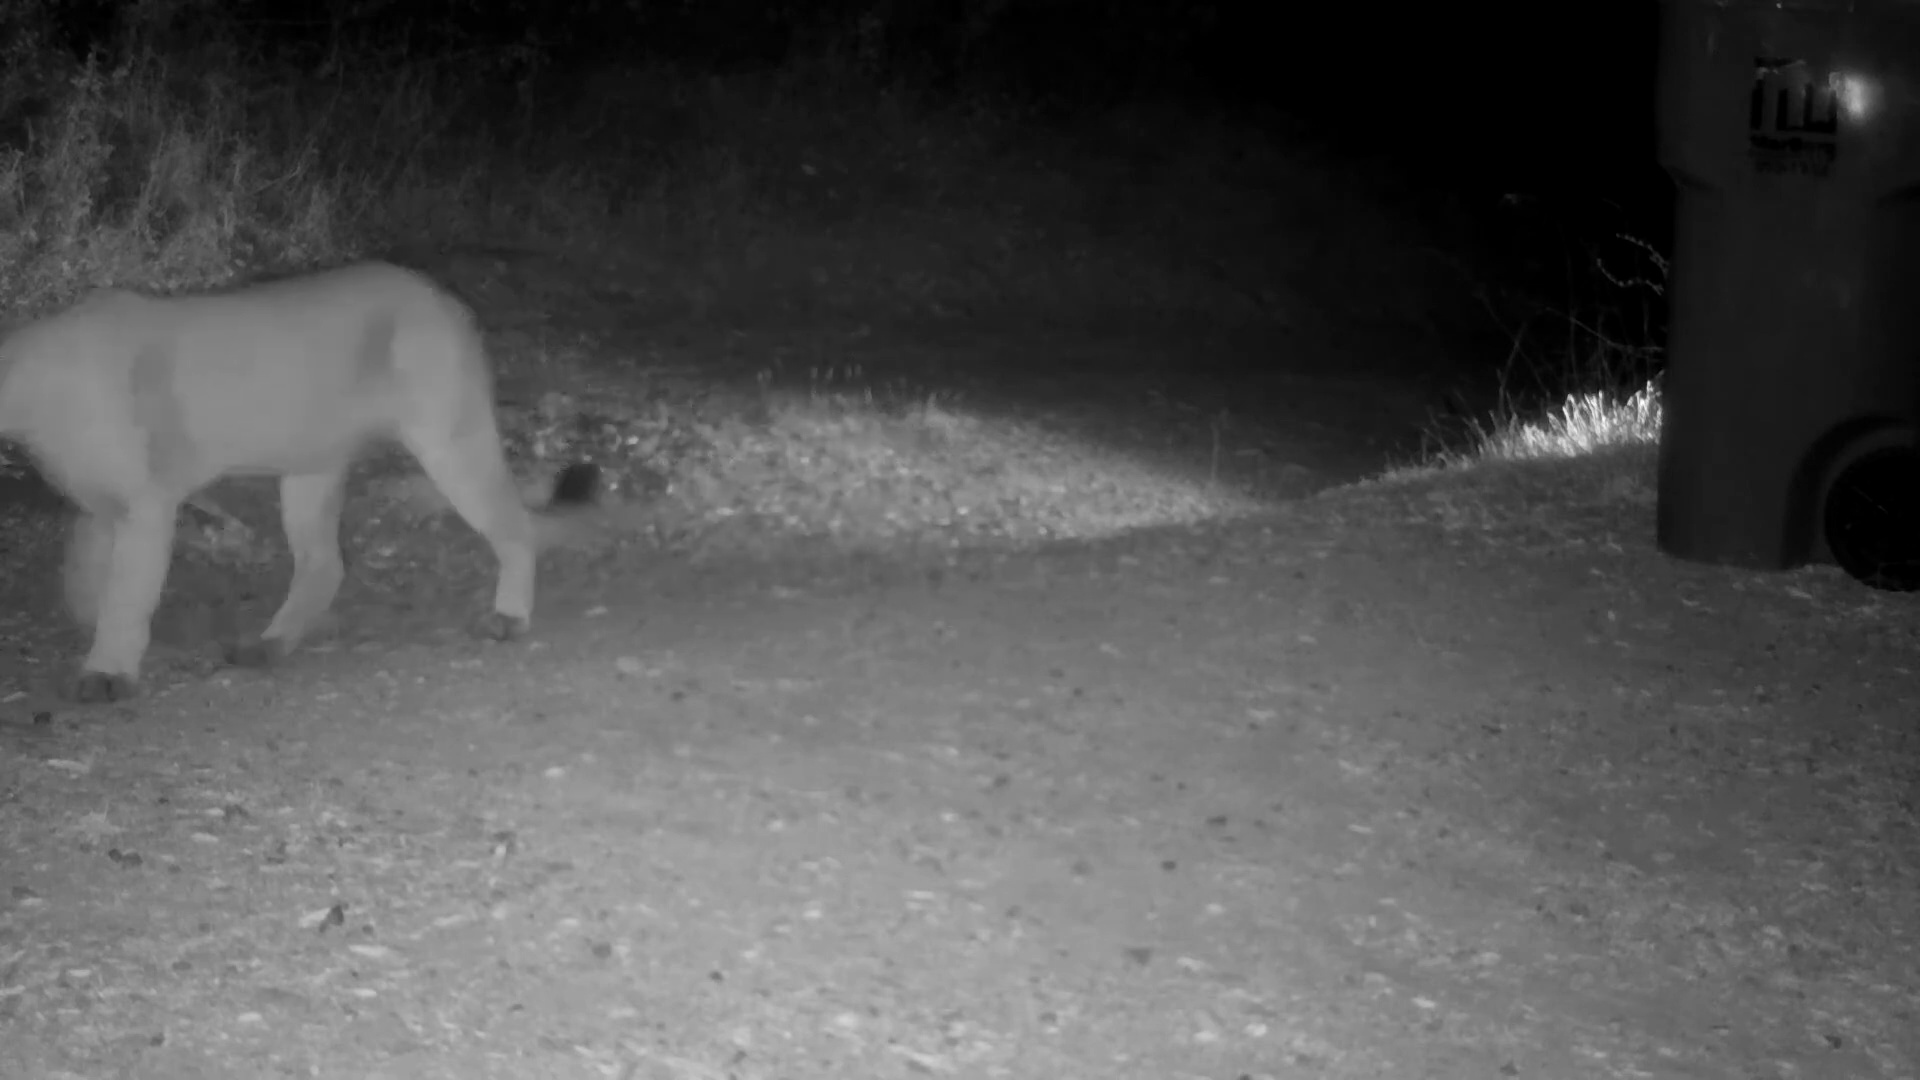Lion: (1, 258, 607, 702)
